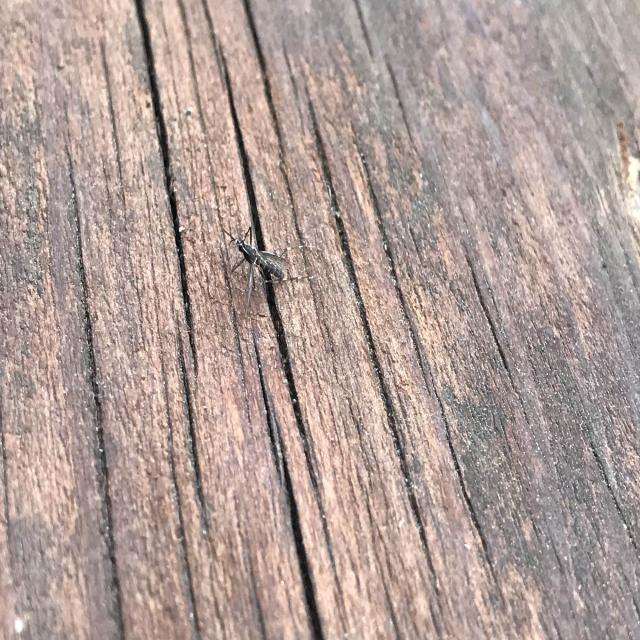albopictus: (213, 201, 308, 393)
